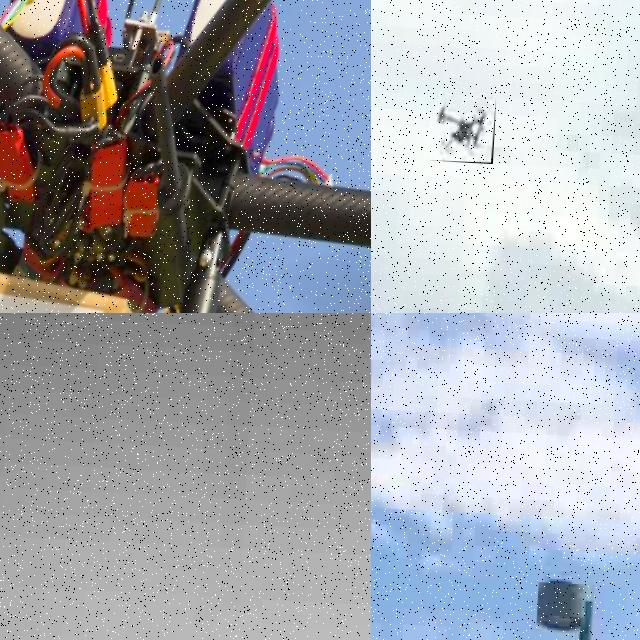0: (427, 94, 496, 164)
drone: (0, 0, 371, 313)
